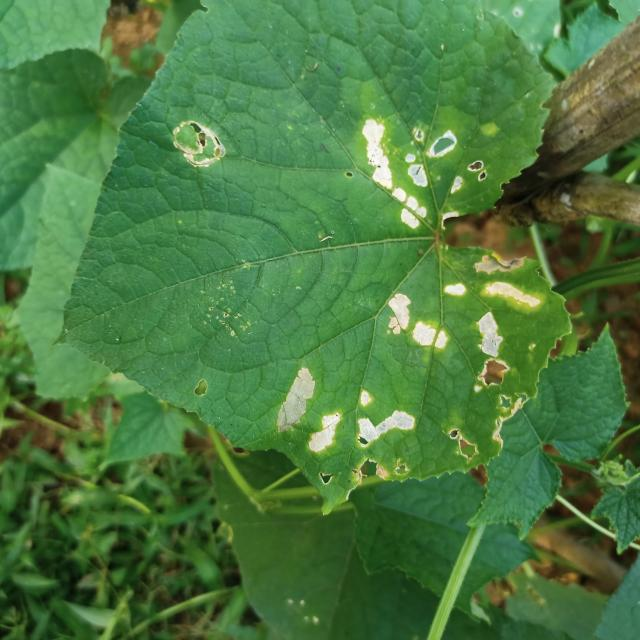disease_cucumber: (356, 111, 489, 237), (471, 251, 544, 442), (275, 364, 351, 466), (386, 278, 468, 364), (354, 388, 420, 454)
